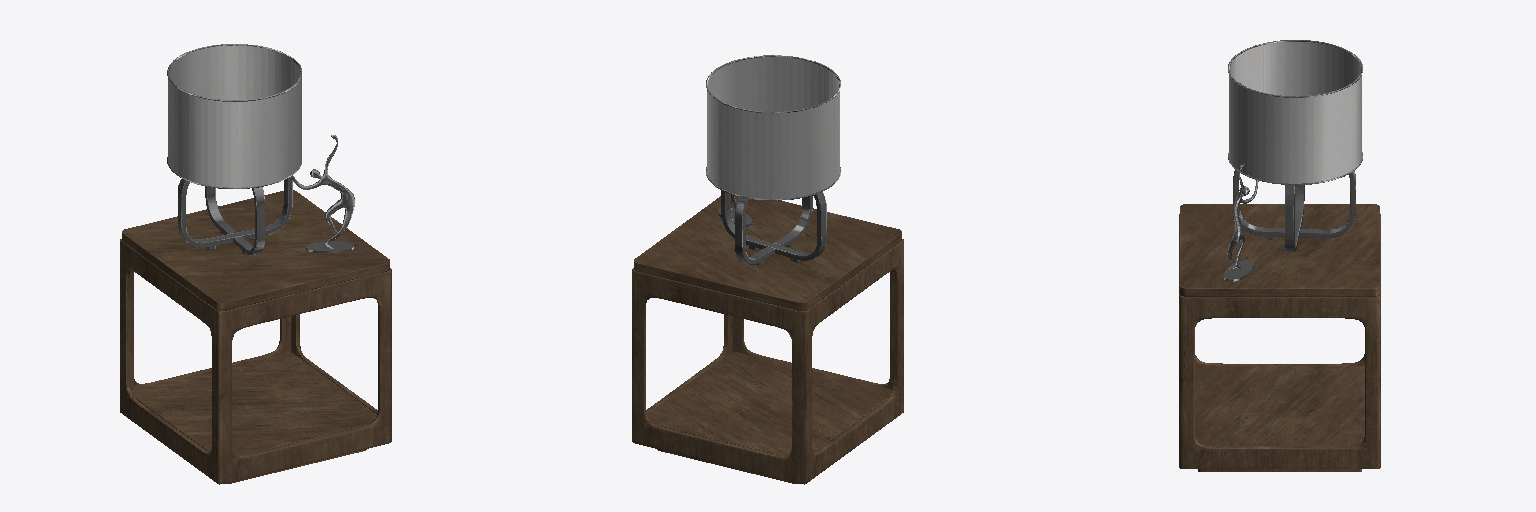
The picture shows the model from 3 angles: view 1: azimuth 30°, elevation 25°; view 2: azimuth 150°, elevation 25°; view 3: azimuth 270°, elevation 25°; orthographic projection.
Parts seen in each view (by area): view 1: solid_002, glass_001, solid_003; view 2: solid_002, glass_001, solid_003; view 3: solid_002, glass_001, solid_003.
Part boxes in pixels (bbox=[...]): solid_002: bbox=[120, 190, 391, 484]; glass_001: bbox=[168, 45, 301, 187]; solid_003: bbox=[167, 44, 354, 255]; solid_002: bbox=[632, 196, 903, 484]; glass_001: bbox=[707, 57, 839, 198]; solid_003: bbox=[706, 55, 840, 264]; solid_002: bbox=[1179, 204, 1380, 471]; glass_001: bbox=[1229, 42, 1361, 183]; solid_003: bbox=[1224, 40, 1362, 281].
Size of the model in its own units: 0.3819 by 0.7581 by 0.3819.
Materials: 1 (1 with a texture image).